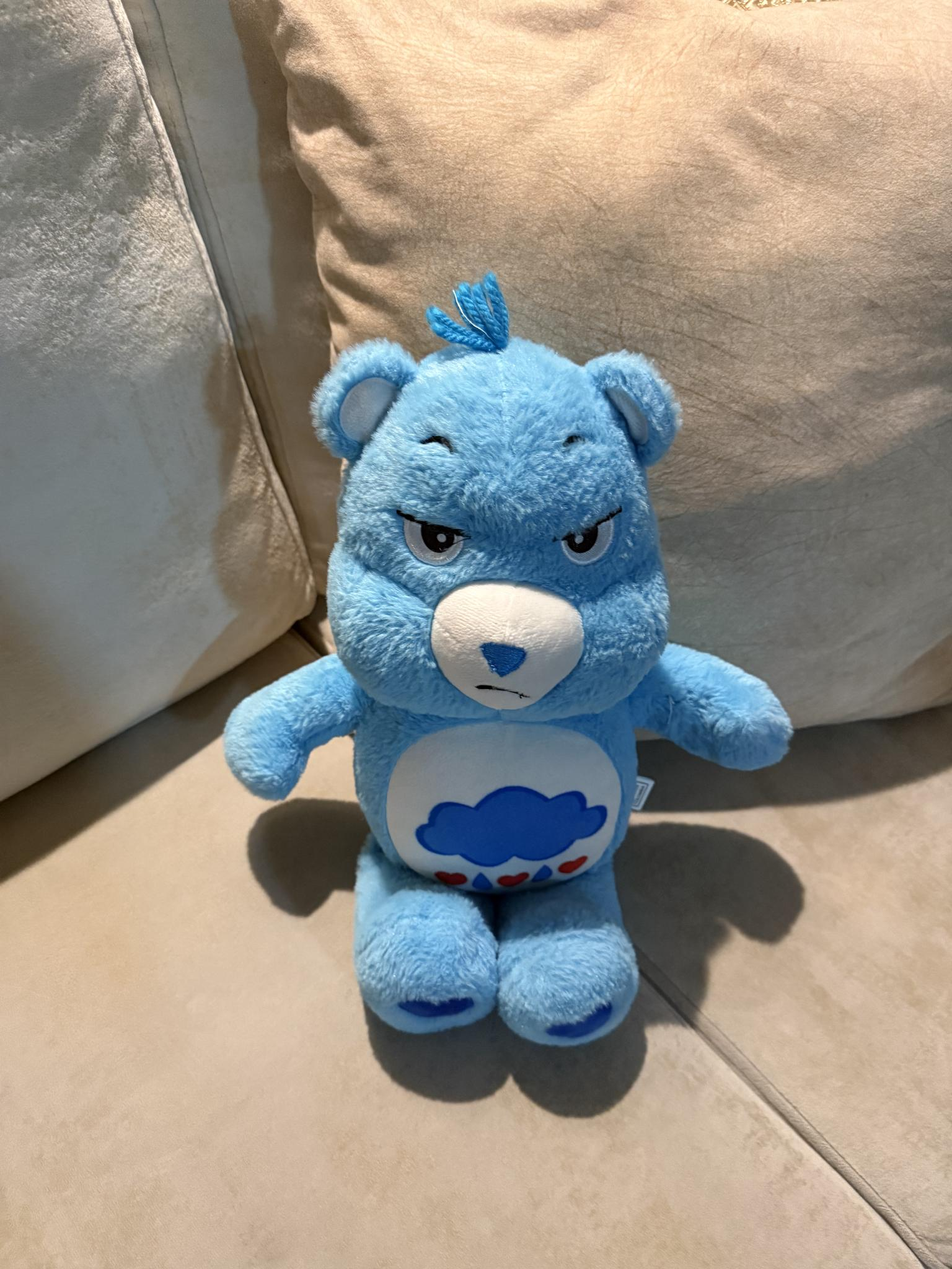peluche_Juan Jose: (218, 298, 802, 1051)
